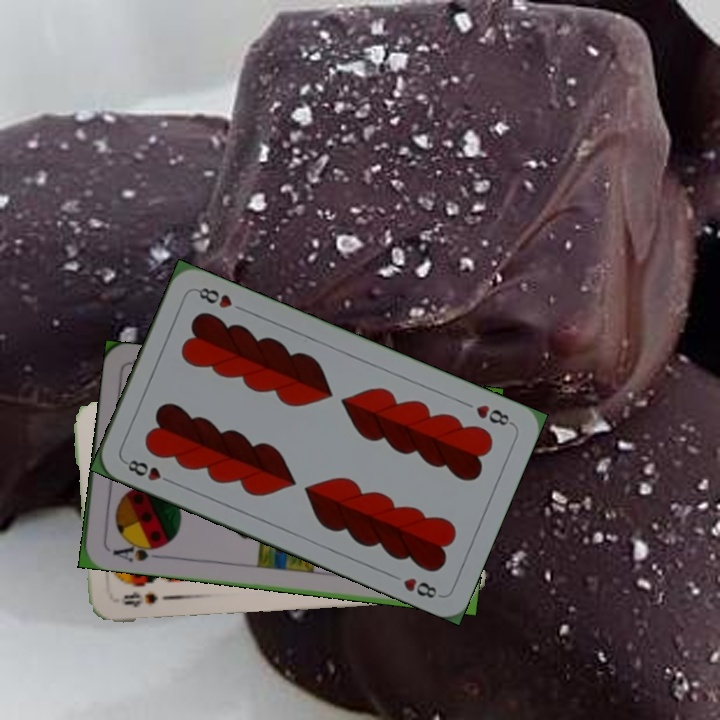H8: (120, 455, 176, 486), (471, 400, 516, 429)
S8: (119, 588, 160, 610)
SA: (108, 537, 165, 565)
